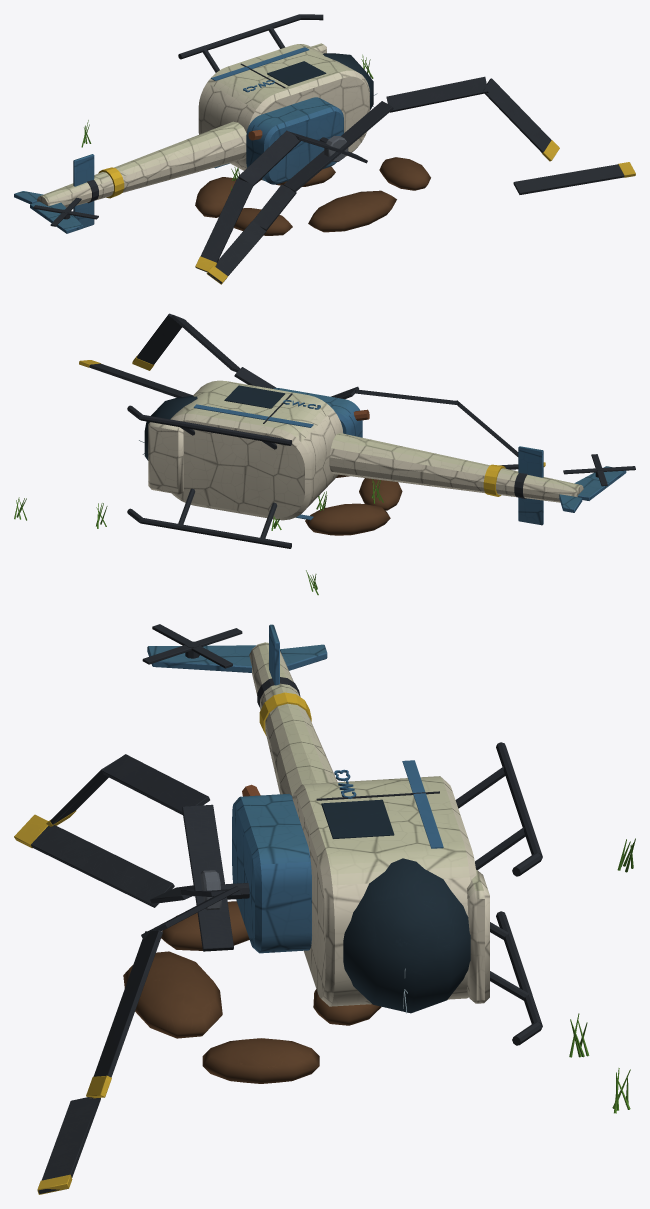
File: helicopter_wreck.glb
3 renders of one model, top to bottom at view 1: azimuth 30°, elevation 25°; view 2: azimuth 150°, elevation 25°; view 3: azimuth 270°, elevation 25°, orthographic. The views are drawn at different scales.
Visible parts, largest first — view 1: helicopter_wreck; view 2: helicopter_wreck; view 3: helicopter_wreck.
Boxes of the visible parts, x1=… form: helicopter_wreck: x1=14, y1=14, x2=635, y2=284; helicopter_wreck: x1=14, y1=313, x2=635, y2=595; helicopter_wreck: x1=14, y1=624, x2=635, y2=1194.
Size of the model in its own units: 10.69 by 2.2 by 6.
14 materials, 14 textured.
